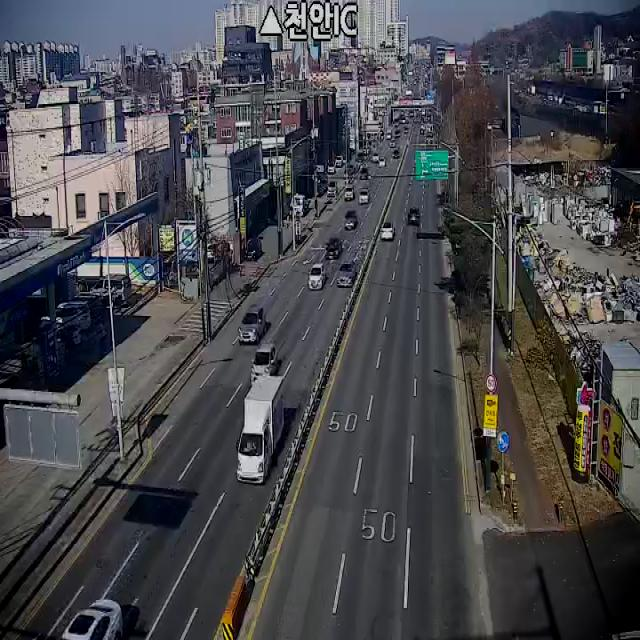Car: (61, 599, 123, 640), (90, 274, 132, 304), (250, 343, 278, 385), (238, 306, 266, 344), (336, 261, 356, 287), (308, 263, 326, 289), (245, 238, 262, 262), (325, 238, 342, 260), (344, 210, 358, 230), (408, 207, 420, 226), (381, 222, 394, 239), (358, 189, 370, 204), (327, 181, 337, 196), (344, 188, 353, 200), (361, 168, 368, 179), (379, 157, 385, 167), (373, 154, 379, 162), (393, 150, 399, 158)
Truck: (237, 376, 285, 484)
